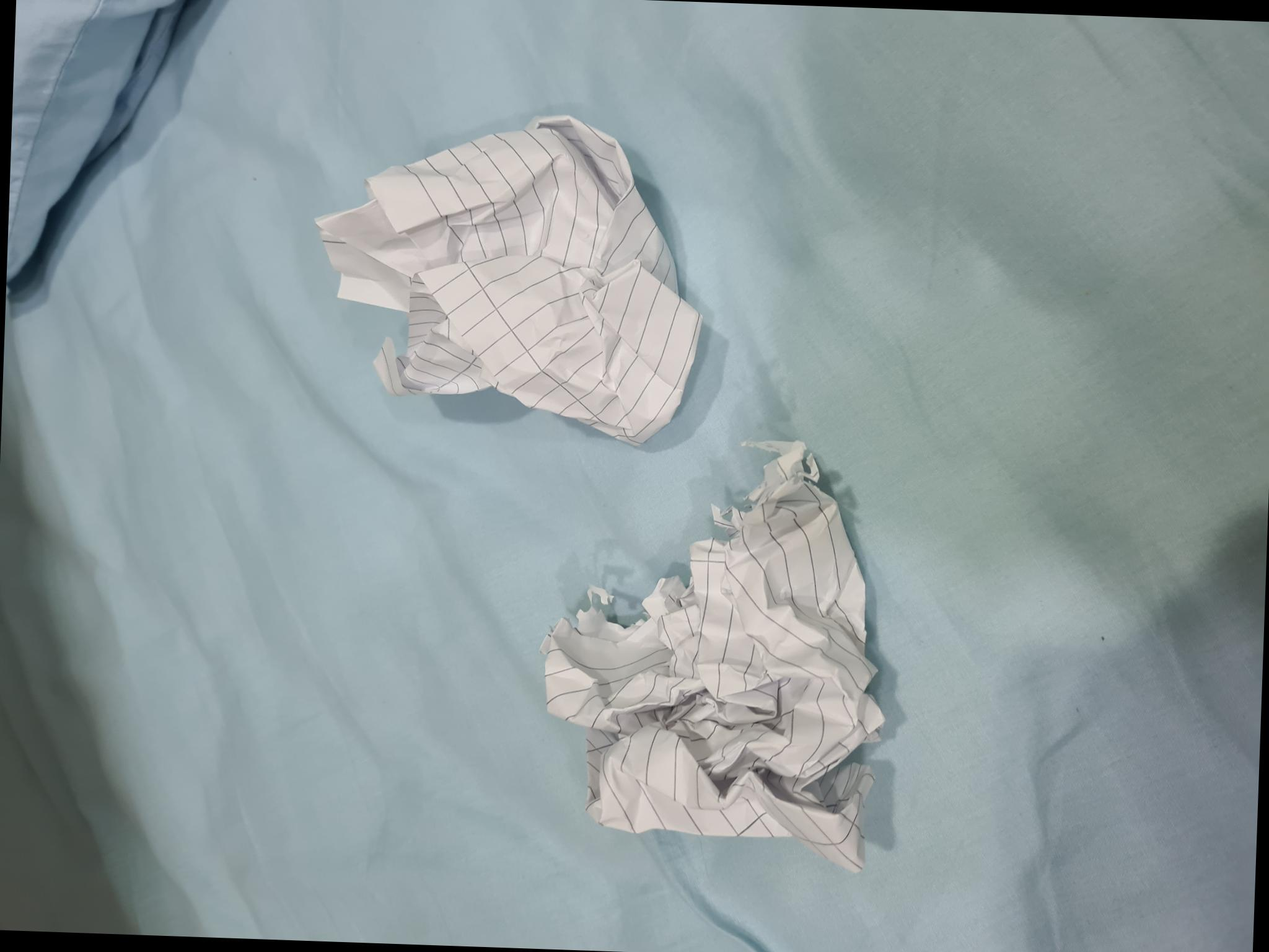Kertas: (75, 537, 505, 879), (502, 313, 828, 694)
